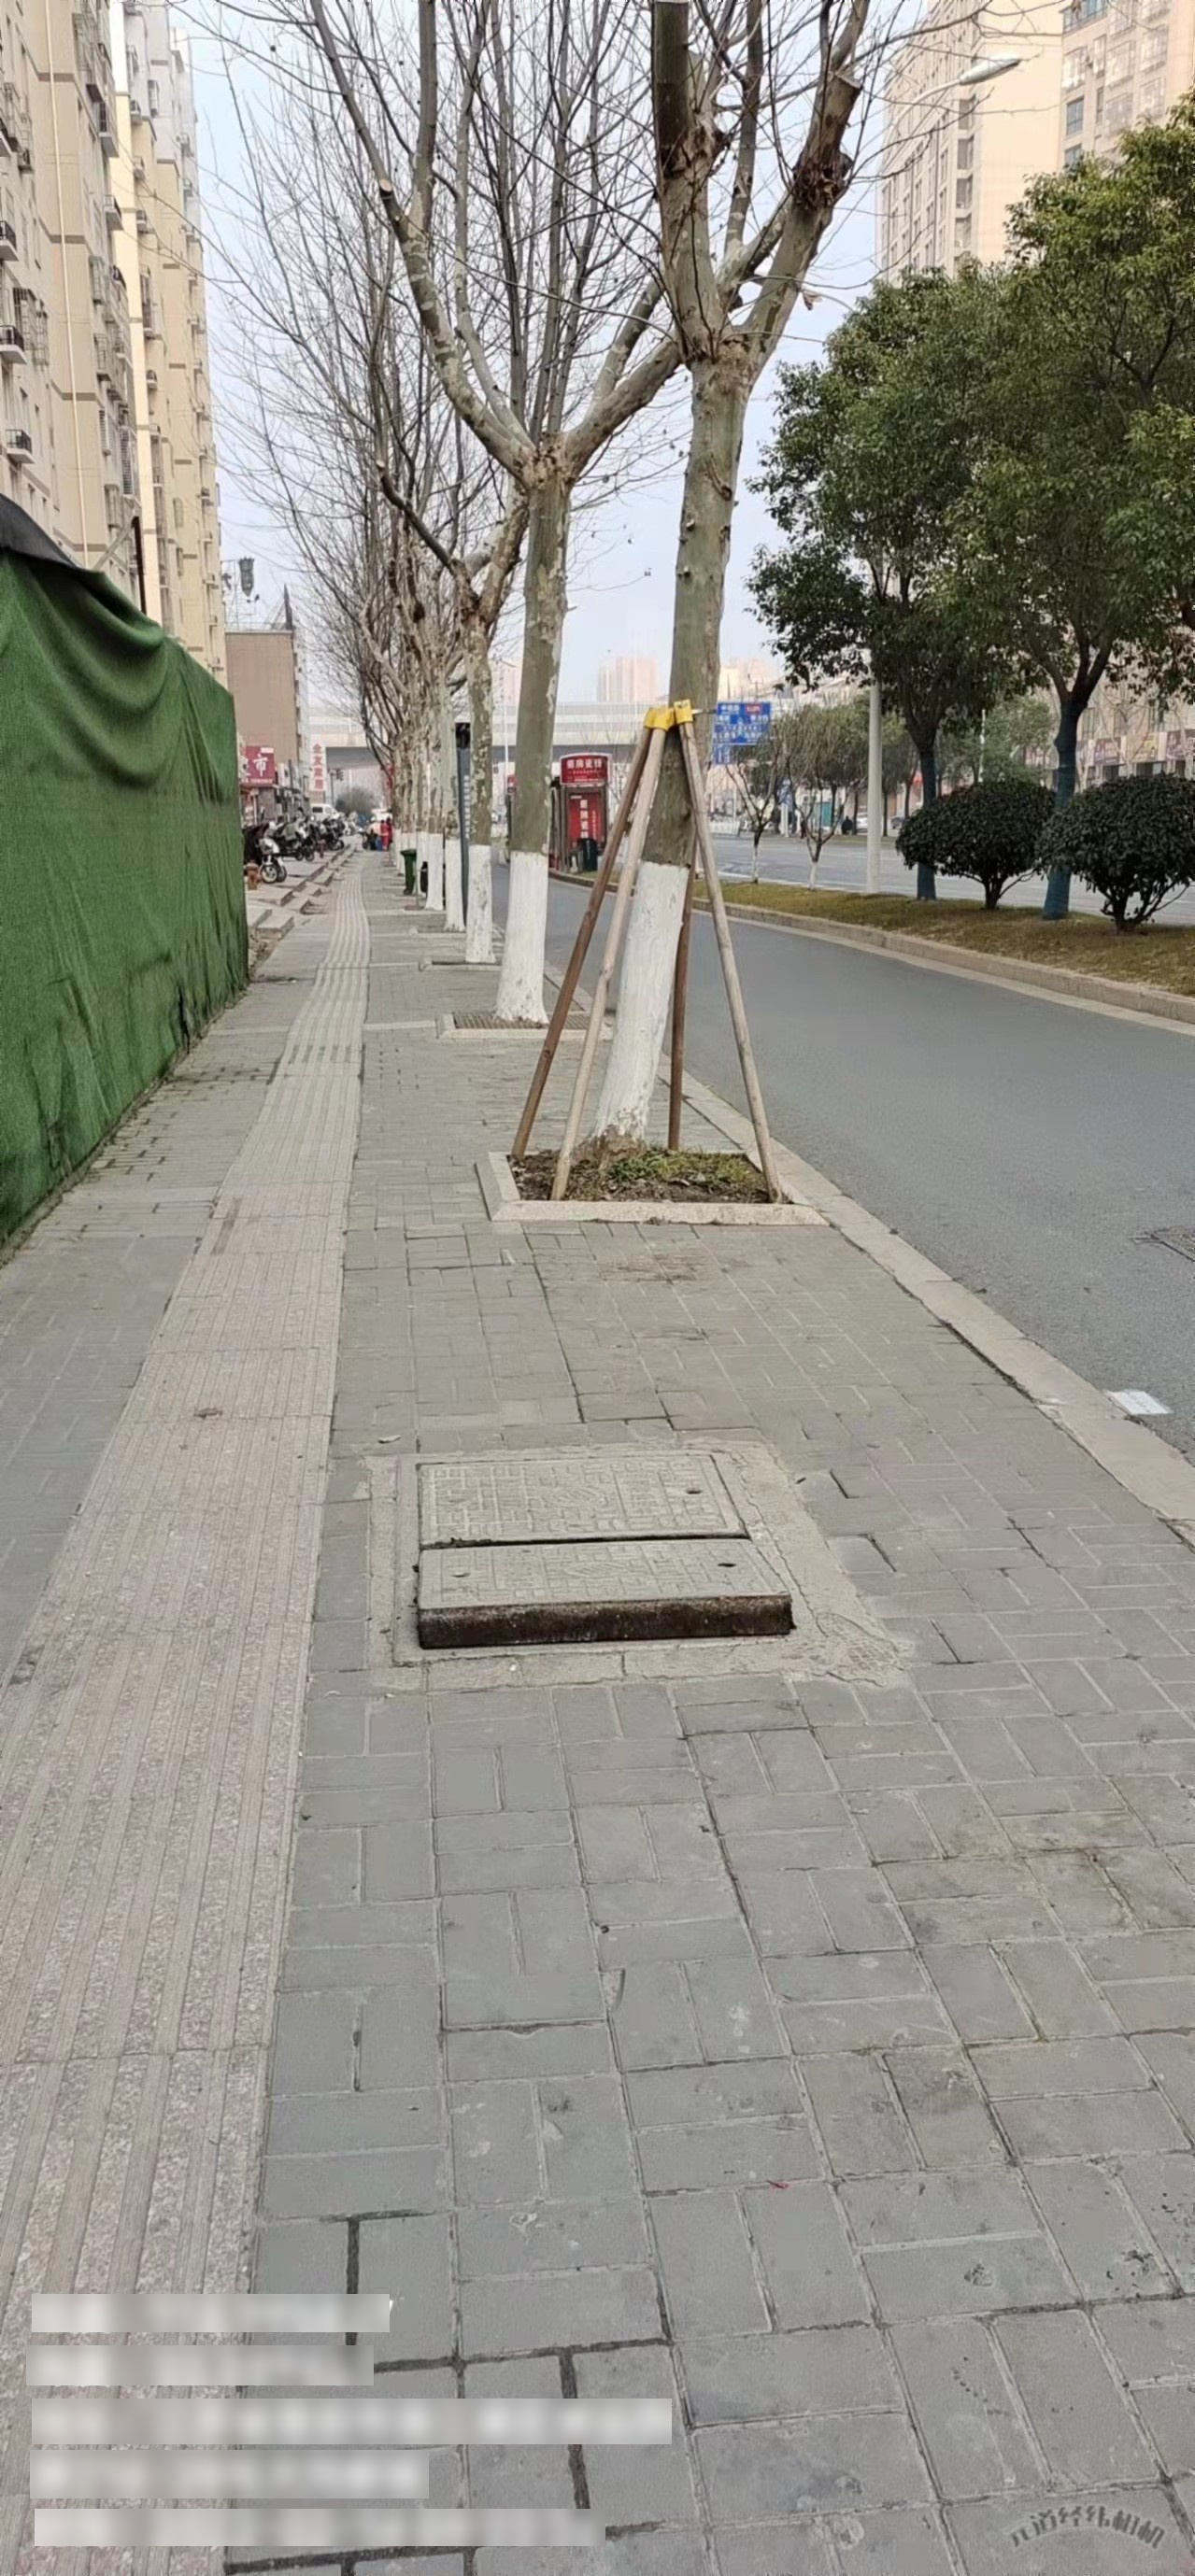uncovered: (398, 1434, 825, 1667)
